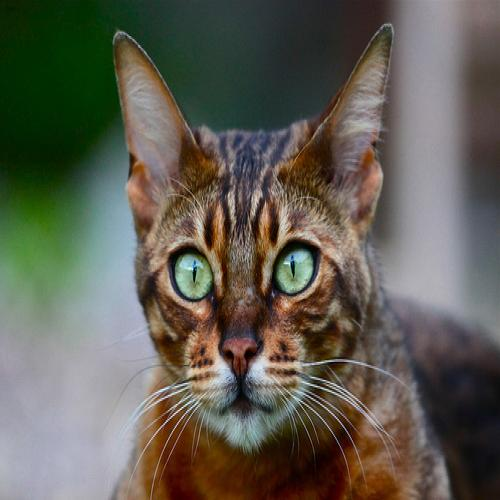bengal: (109, 19, 399, 460)
